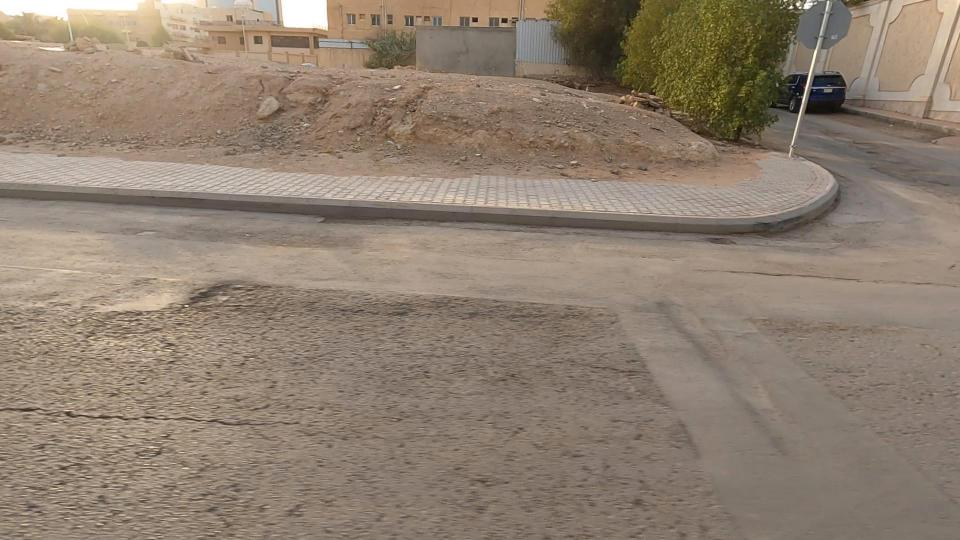POTHOLES: (117, 228, 335, 377)
